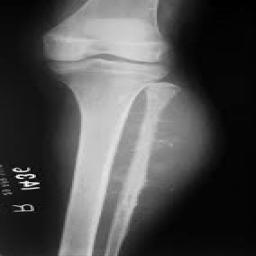cancer: (113, 106, 180, 225)
